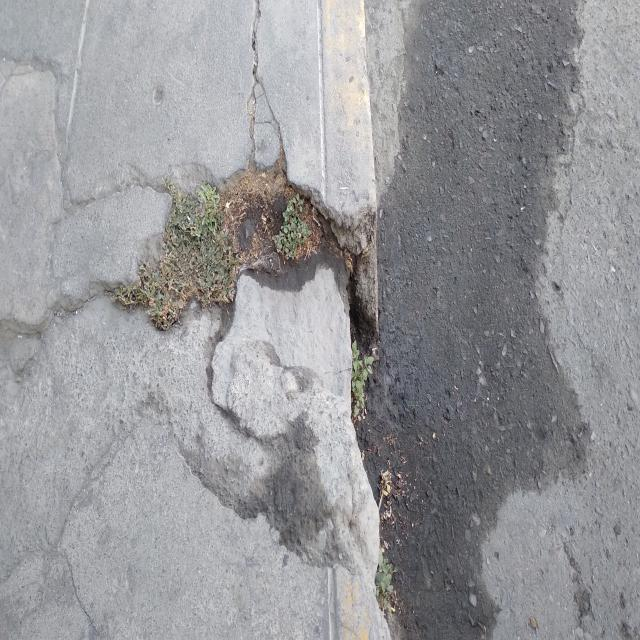hole: (120, 164, 374, 338)
